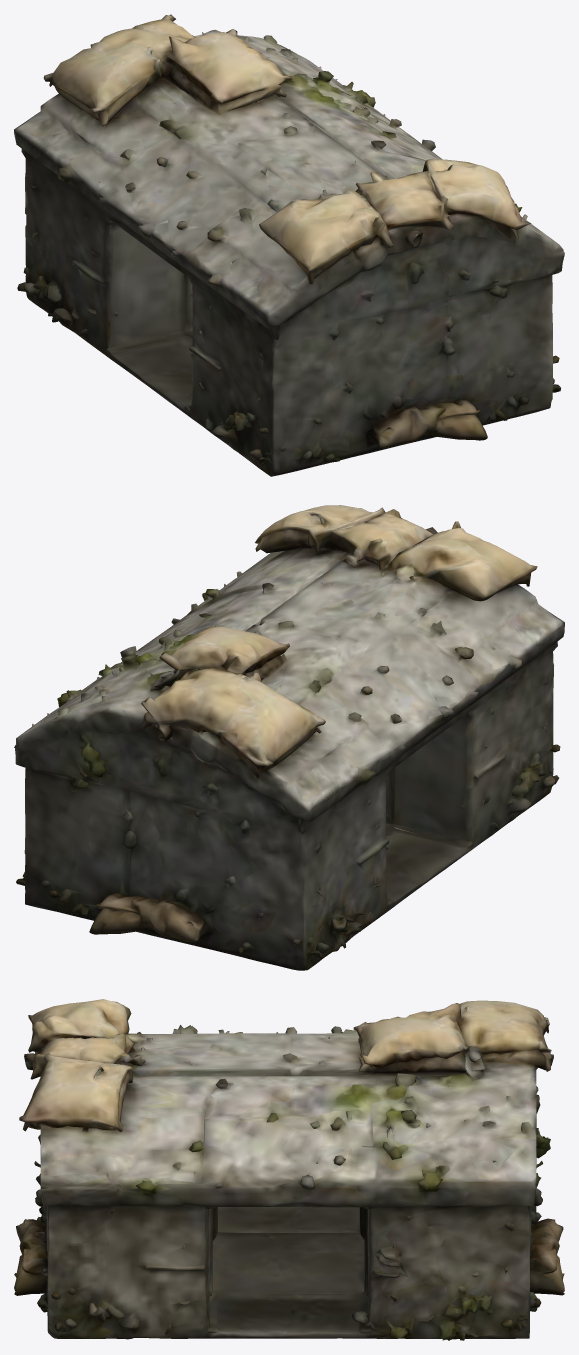
The model's file is base_bunker.glb.
3 views of the same model, one above another, from view 1: azimuth 30°, elevation 25°; view 2: azimuth 150°, elevation 25°; view 3: azimuth 270°, elevation 25° (orthographic). The views are drawn at different scales.
Visible parts, largest first — view 1: tripo_node_13f8f42d-6b3b-4966-bd99-9ffbf6a61f66; view 2: tripo_node_13f8f42d-6b3b-4966-bd99-9ffbf6a61f66; view 3: tripo_node_13f8f42d-6b3b-4966-bd99-9ffbf6a61f66.
Part boxes in pixels (box(x1,y1,x2,y2)): tripo_node_13f8f42d-6b3b-4966-bd99-9ffbf6a61f66: box(14, 14, 564, 476); tripo_node_13f8f42d-6b3b-4966-bd99-9ffbf6a61f66: box(14, 505, 564, 970); tripo_node_13f8f42d-6b3b-4966-bd99-9ffbf6a61f66: box(14, 999, 564, 1340).
Bounding box in the file's own units: 0.6428 × 0.5124 × 1.
Materials: 1 (1 with a texture image).
